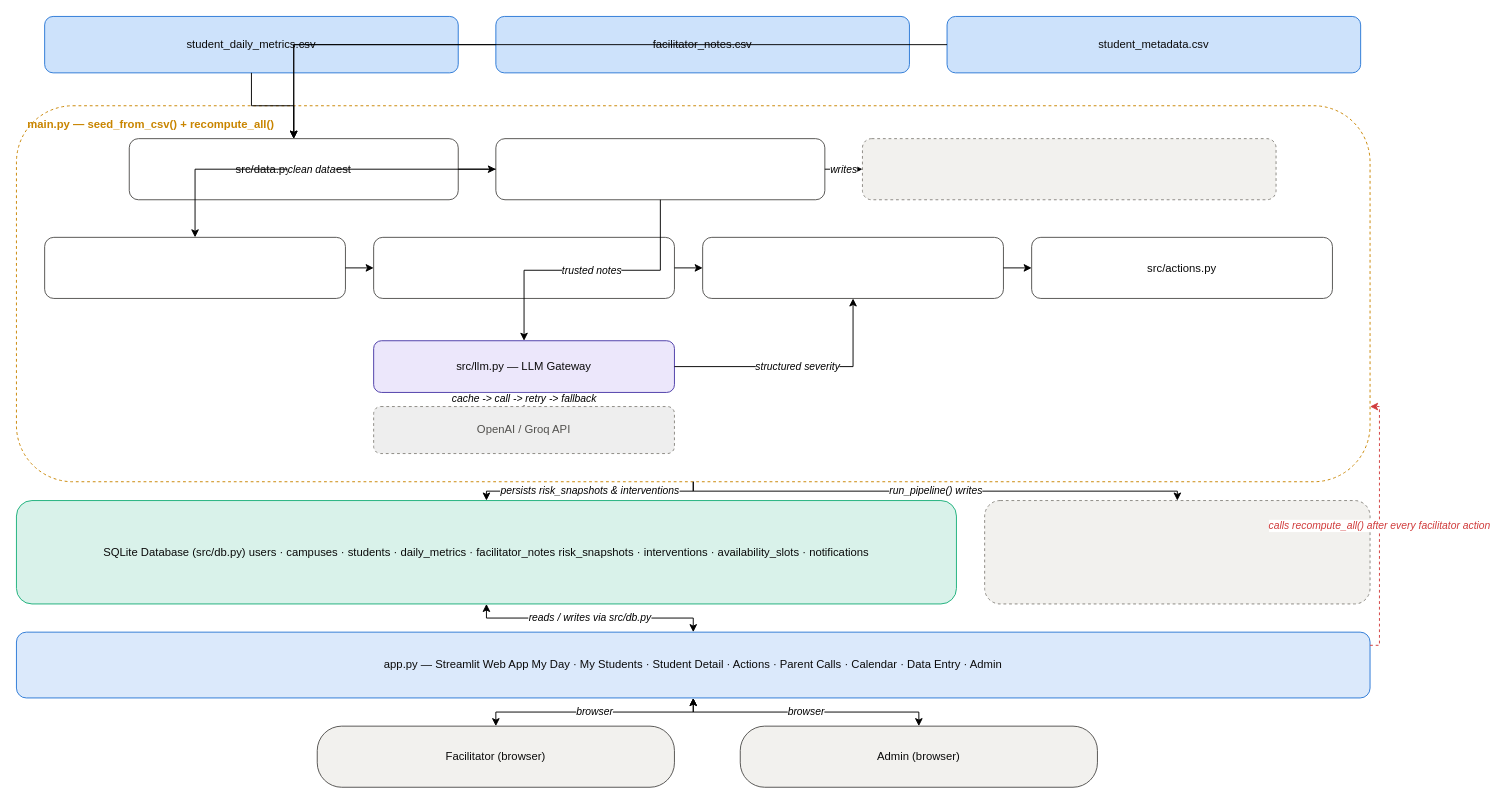
Some shapes in this 1507 by 804 pixel diagram are drawn without their labels. Each missing label, with the centre of its shape:
"data_quality_report.json" belongs at point (1069, 169).
"outputs/ roster · worklists · dashboards parent reports · run_summary.json" belongs at point (1177, 552).
"src/features.py" belongs at point (194, 267).
"src/patterns.py" belongs at point (523, 267).
"src/scoring.py" belongs at point (852, 267).
"src/validation.py Data-Quality Checks" belongs at point (660, 169).
